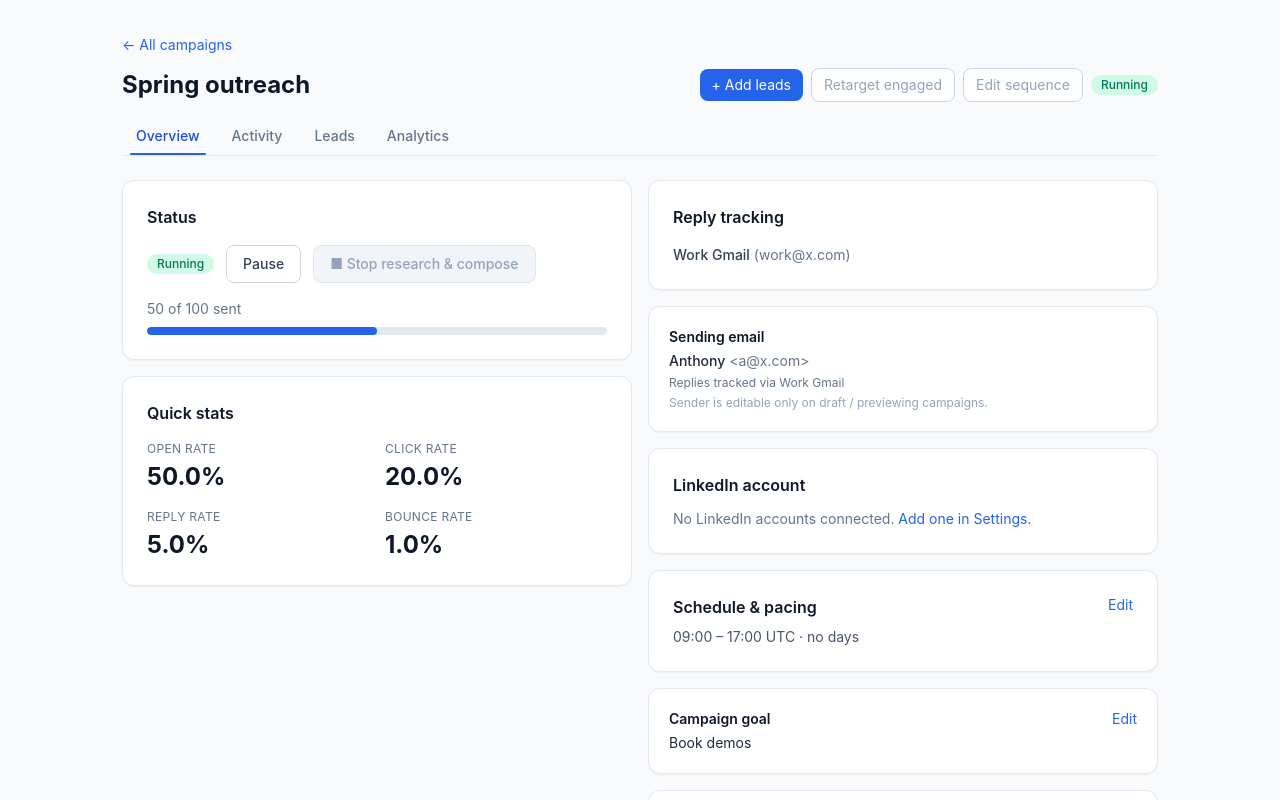
CampaignDetail › shows the inherited Settings signature when no per-campaign override
Click the tab with test id "tab-leads": (335, 137) [300,118,369,156]
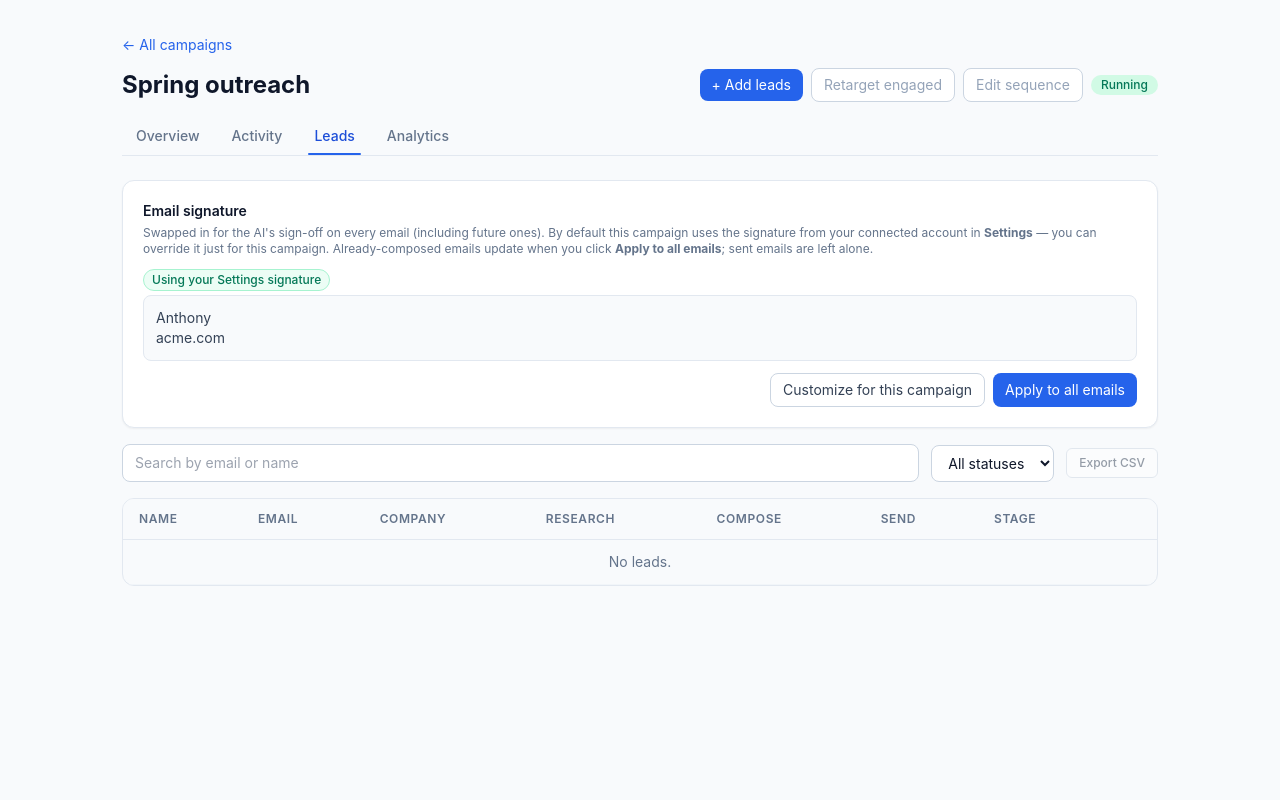
Now the element with test id "signature-inherited-preview" shows "acme.com", box [156,329,225,346]
